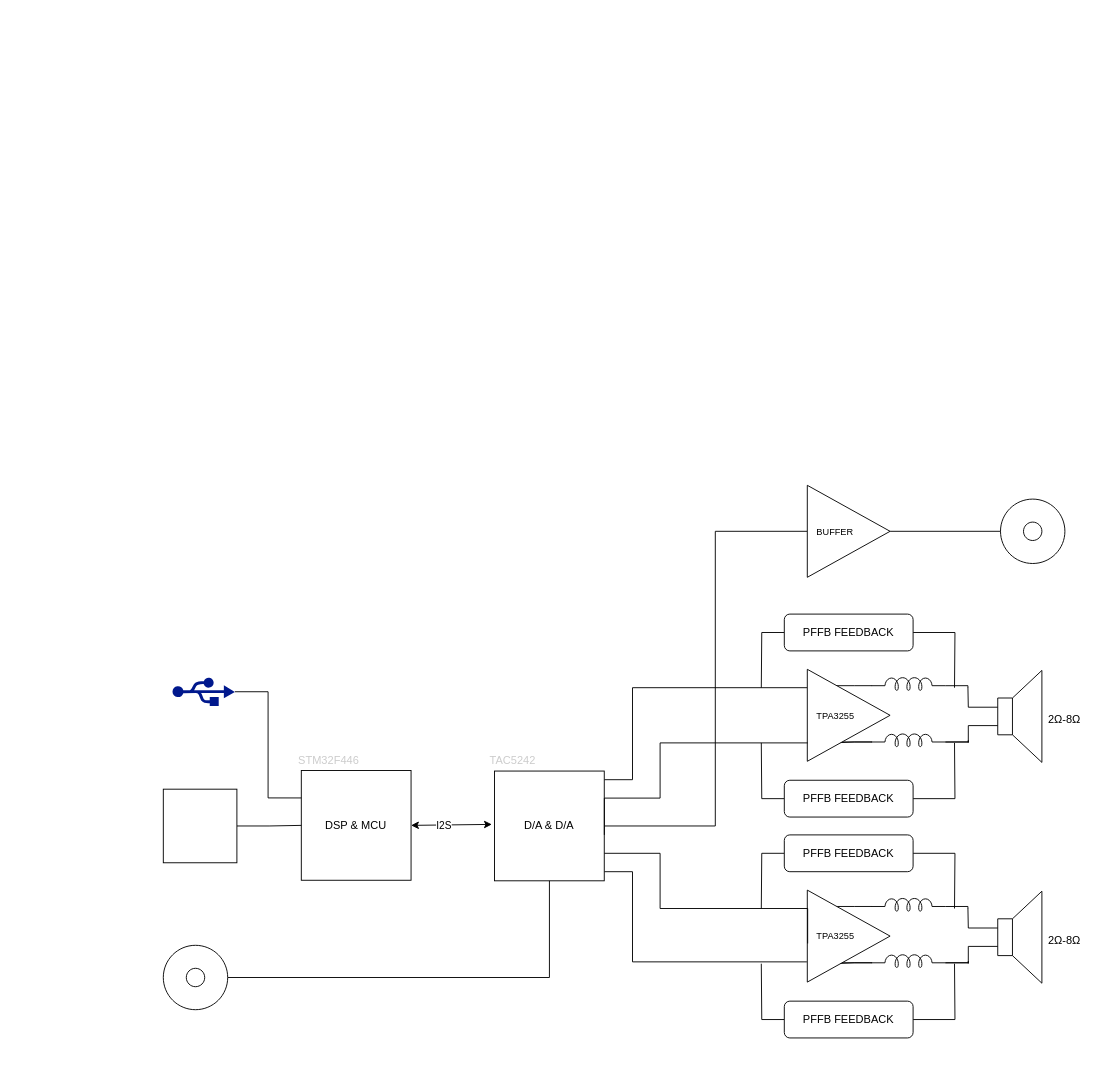
This 1118x1072 diagram has some shape labels left out. Here are the shapes that lost their labels. From the top down, the centre of each, then its label:
At point (1032, 531): "PRE-OUT (L/R)".
At point (203, 691): "USB AUDIO".
At point (199, 825): "SPDIF".
At point (195, 977): "LINE INPUT Zᵢₙ = 47k Ω Vᵢₙ = ±1.5 V".
